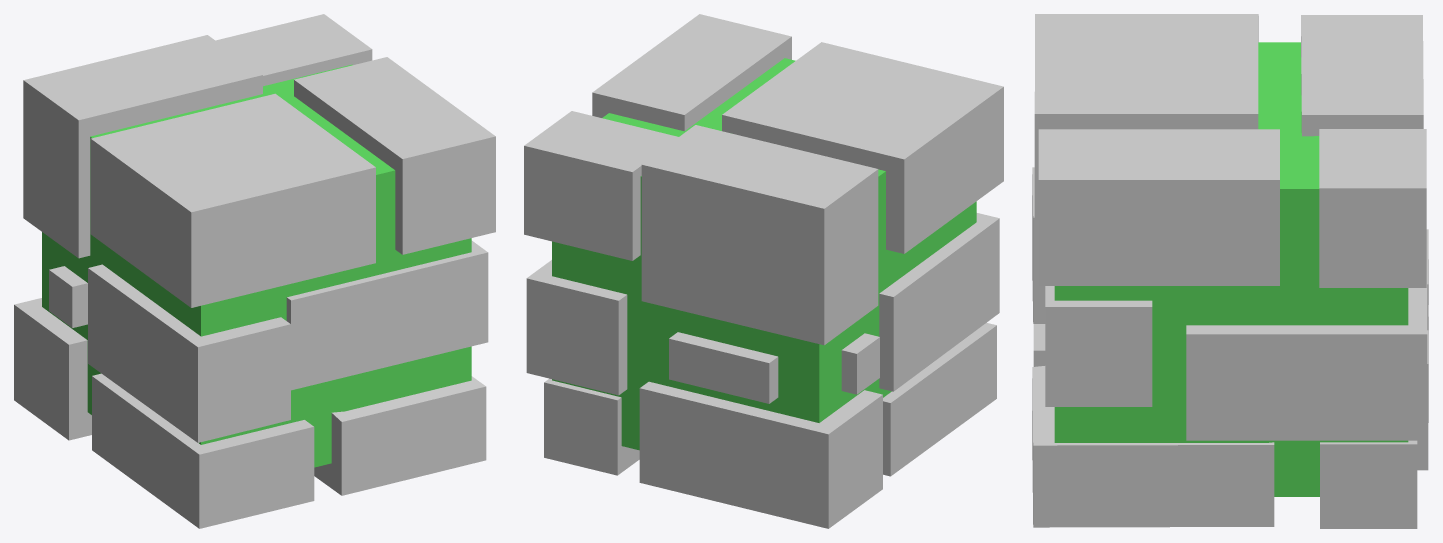
The model's file is cube_stone.fbx.
3 views of the same model, side by side, from view 1: azimuth 30°, elevation 25°; view 2: azimuth 150°, elevation 25°; view 3: azimuth 270°, elevation 25° (orthographic). The views are drawn at different scales.
Visible parts, largest first — view 1: stones; view 2: stones; view 3: stones.
Part boxes in pixels (x1,y1,x2,y2): stones: (14,14,495,528); stones: (524,14,1003,528); stones: (1032,14,1428,528).
Bounding box in the file's own units: 100 × 100 × 100.
